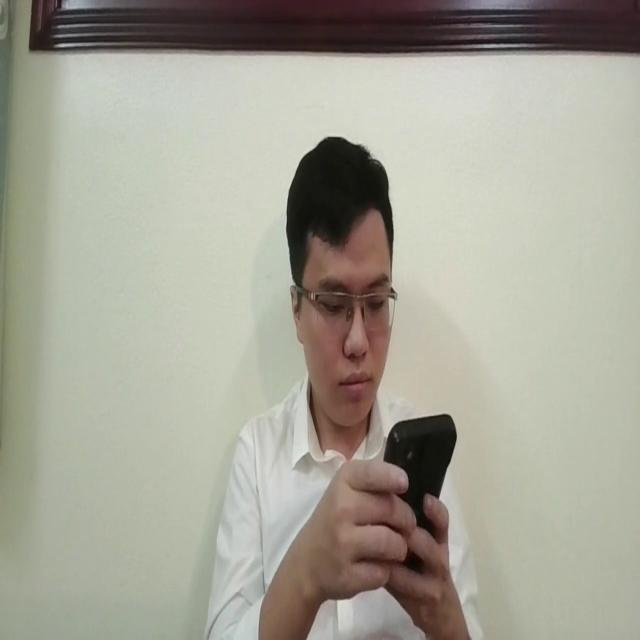phone: (379, 412, 456, 542)
student: (203, 123, 482, 640)
